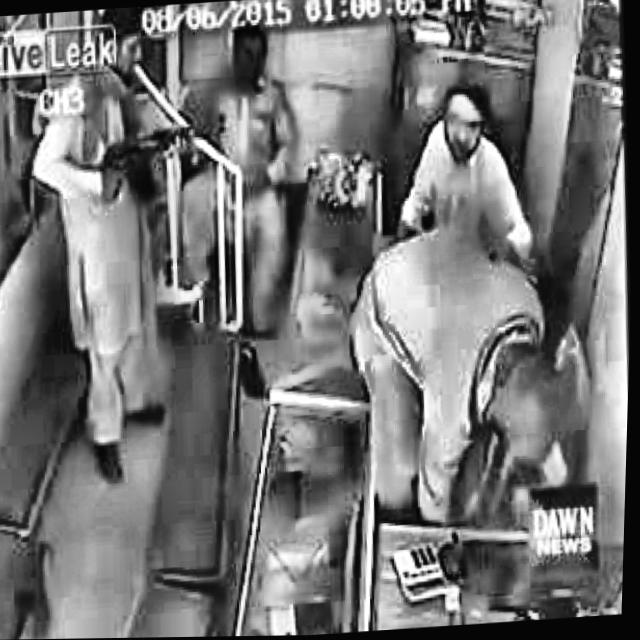Weapon: (358, 234, 616, 536), (350, 54, 567, 242), (174, 42, 346, 121), (102, 11, 170, 100)
